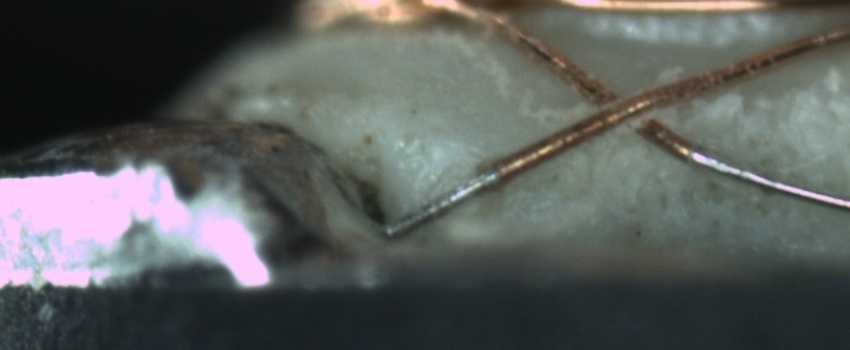CL: (567, 67, 696, 156)
DL: (404, 127, 509, 168)
TS: (382, 168, 501, 237)
